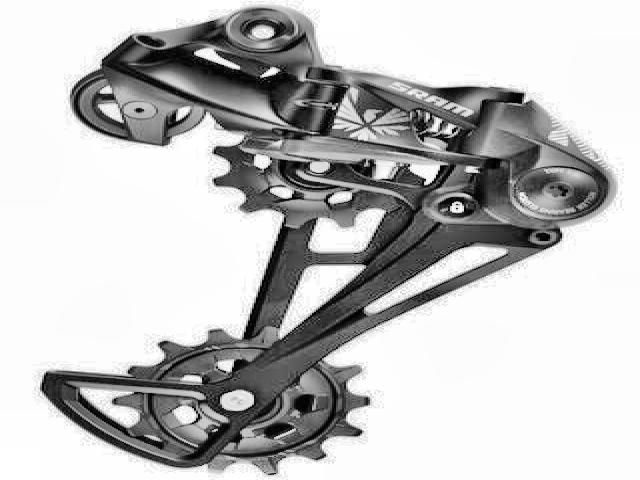rear_derailleur: (33, 4, 623, 476)
